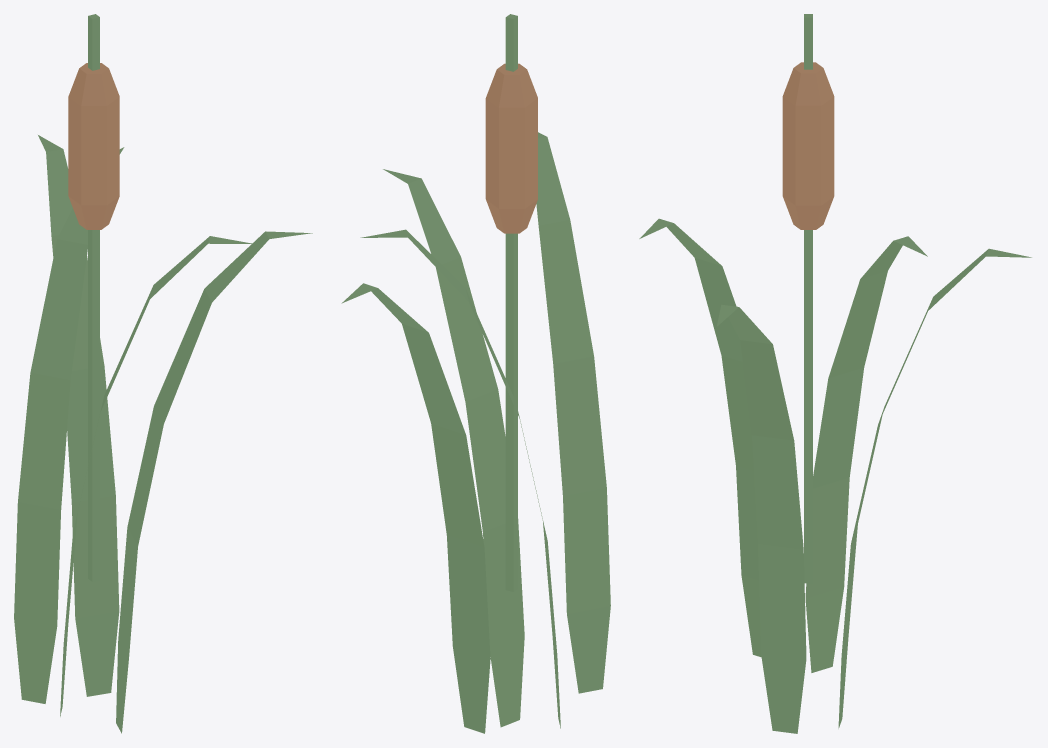
File: cattail.fbx
3 views of the same model, side by side, from view 1: azimuth 30°, elevation 25°; view 2: azimuth 150°, elevation 25°; view 3: azimuth 270°, elevation 25° (orthographic).
Visible parts, largest first — view 1: Plane.011, Plane.012, Cube.102, Plane.013, Cube.027, Plane.010; view 2: Plane.010, Plane.013, Plane.012, Cube.102, Cube.027, Plane.011; view 3: Plane.013, Plane.011, Plane.010, Cube.102, Cube.027, Plane.012.
Part boxes in pixels (x1,y1,x2,y2): Plane.011: [14, 147, 124, 703]; Plane.012: [38, 135, 119, 696]; Cube.102: [68, 63, 119, 229]; Plane.013: [116, 231, 312, 733]; Cube.027: [88, 14, 99, 581]; Plane.010: [60, 236, 253, 716]; Plane.010: [536, 132, 610, 693]; Plane.013: [383, 169, 524, 727]; Plane.012: [341, 283, 490, 733]; Cube.102: [485, 63, 537, 233]; Cube.027: [505, 14, 517, 591]; Plane.011: [360, 229, 560, 728]; Plane.013: [716, 304, 806, 733]; Plane.011: [805, 236, 927, 672]; Plane.010: [639, 218, 761, 657]; Cube.102: [782, 62, 834, 229]; Cube.027: [804, 14, 812, 583]; Plane.012: [838, 248, 1031, 728].
Size of the model in its own units: 145 by 413 by 208.
